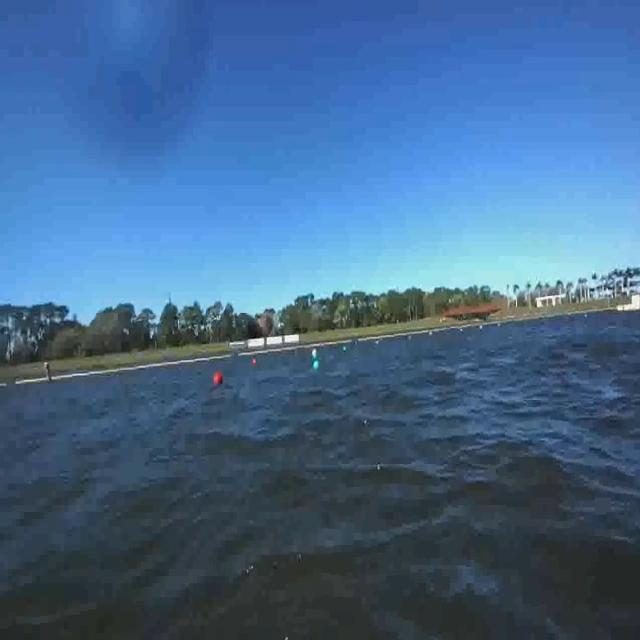green-buoy: (310, 355, 324, 373)
red-buoy: (214, 372, 224, 387)
